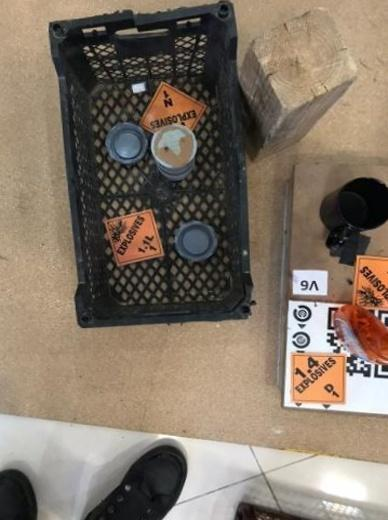explosive: (138, 79, 207, 140), (104, 209, 163, 265), (289, 352, 346, 402), (352, 255, 388, 310)
